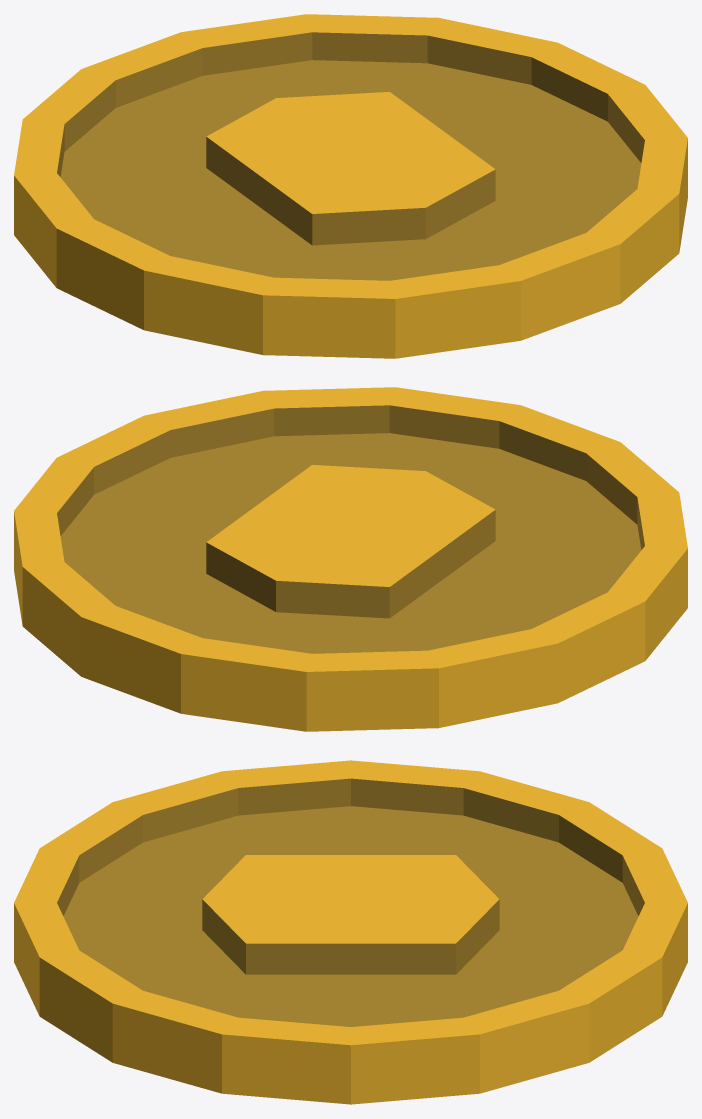
File: Coin_Shield.fbx
The picture shows the model from 3 angles, top to bottom: view 1: azimuth 30°, elevation 25°; view 2: azimuth 150°, elevation 25°; view 3: azimuth 270°, elevation 25°; orthographic projection.
Parts seen in each view (by area): view 1: Coin_Shield; view 2: Coin_Shield; view 3: Coin_Shield.
Part boxes in pixels (x1=…): Coin_Shield: x1=14, y1=14, x2=687, y2=358; Coin_Shield: x1=14, y1=387, x2=687, y2=731; Coin_Shield: x1=14, y1=760, x2=687, y2=1104.
Bounding box in the file's own units: 20 × 20 × 2.06.
